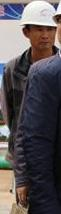hard-hat: (19, 0, 57, 28)
